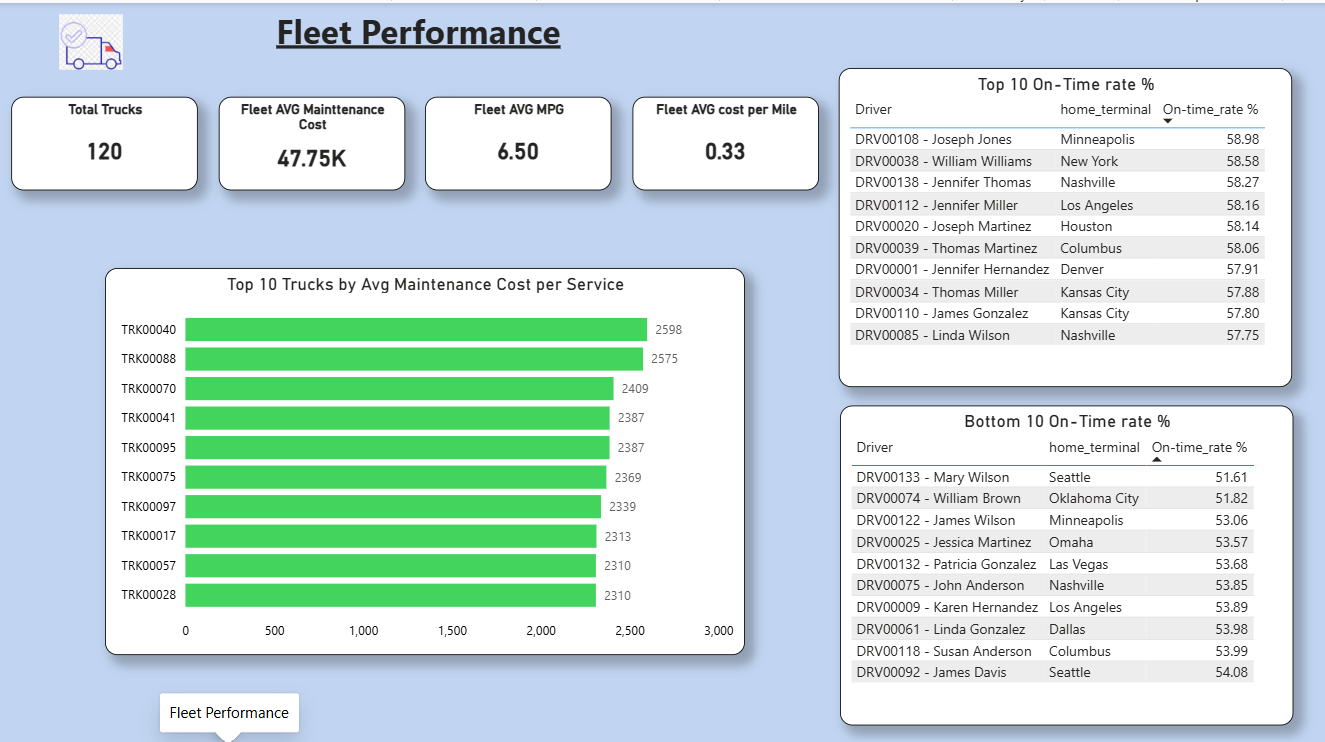

Layout of this report page (visuals, bound fields, positions):
{"tool":"powerbi","page":{"name":"Fleet Performance","canvas":[1280,720],"ordinal":1},"visuals":[{"type":"card","title":"Total Trucks","fields":{"Values":["CountNonNull(Q5.truck_id)"]},"box":[11,90.5,180,90.5],"z":0},{"type":"card","title":"Fleet AVG MPG","fields":{"Values":["Avg(Q4.fleet_avg_mpg)"]},"box":[410.3,90.6,180,90.6],"z":1000},{"type":"card","title":"Fleet AVG Mainttenance Cost","fields":{"Values":["Avg(Q5.fleet_avg_maintenance_cost)"]},"box":[211.3,90.6,180,90.6],"z":2000},{"type":"textbox","box":[11,0,535.2,74.1],"z":3000},{"type":"image","box":[45.3,11,83.7,53.5],"z":4000},{"type":"barChart","title":"Top 10 Trucks by Avg Maintenance Cost per Service","fields":{"Category":["Q5.truck_id"],"Y":["Avg(Q5.avg_cost_per_service)"]},"box":[101.5,255.2,617.5,373.2],"z":5000},{"type":"card","title":"Fleet AVG cost per Mile","fields":{"Values":["Avg(Q4.cost_per_mile)"]},"box":[610.6,90.6,180,90.6],"z":6000},{"type":"tableEx","title":"Top 10 On-Time rate %","fields":{"Values":["Q1.driver_details","Q1.home_terminal","Sum(Q1.on_time_rate_pct)"]},"box":[809.6,63.1,437.7,308],"z":7000},{"type":"tableEx","title":"Bottom 10 On-Time rate %","fields":{"Values":["Q1.driver_details","Q1.home_terminal","Sum(Q1.on_time_rate_pct)"]},"box":[811,388.3,437.7,308.7],"z":8000}]}

Visuals, with their boxes on the page's 1280x720 design canvas (x1, y1, x2, y2). These are canvas units, not pixel positions in the 1325x742 screenshot, which may show the page scaled, cropped or inside an application window:
"Total Trucks" card: rect(11, 90, 191, 181)
"Fleet AVG MPG" card: rect(410, 91, 590, 181)
"Fleet AVG Mainttenance Cost" card: rect(211, 91, 391, 181)
textbox: rect(11, 0, 546, 74)
image: rect(45, 11, 129, 64)
"Top 10 Trucks by Avg Maintenance Cost per Service" barChart: rect(102, 255, 719, 628)
"Fleet AVG cost per Mile" card: rect(611, 91, 791, 181)
"Top 10 On-Time rate %" tableEx: rect(810, 63, 1247, 371)
"Bottom 10 On-Time rate %" tableEx: rect(811, 388, 1249, 697)
